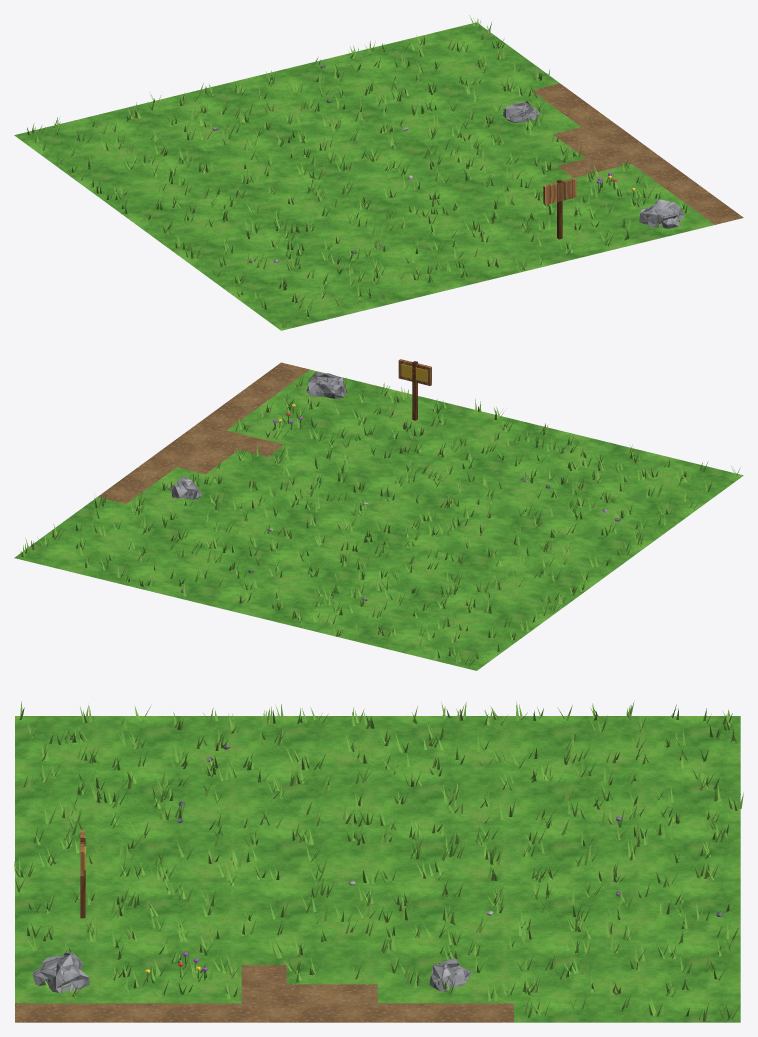
The model's file is chunk_1_5.glb.
3 renders of one model, top to bottom at view 1: azimuth 30°, elevation 25°; view 2: azimuth 150°, elevation 25°; view 3: azimuth 270°, elevation 25°, orthographic. The views are drawn at different scales.
Visible parts, largest first — view 1: chunk_1_5; view 2: chunk_1_5; view 3: chunk_1_5.
Part boxes in pixels (box(x1,y1,x2,y2)): chunk_1_5: box(14, 15, 743, 330); chunk_1_5: box(14, 359, 743, 670); chunk_1_5: box(14, 701, 743, 1022).
Size of the model in its own units: 16.22 by 2.31 by 16.09.
13 materials, 8 textured.
